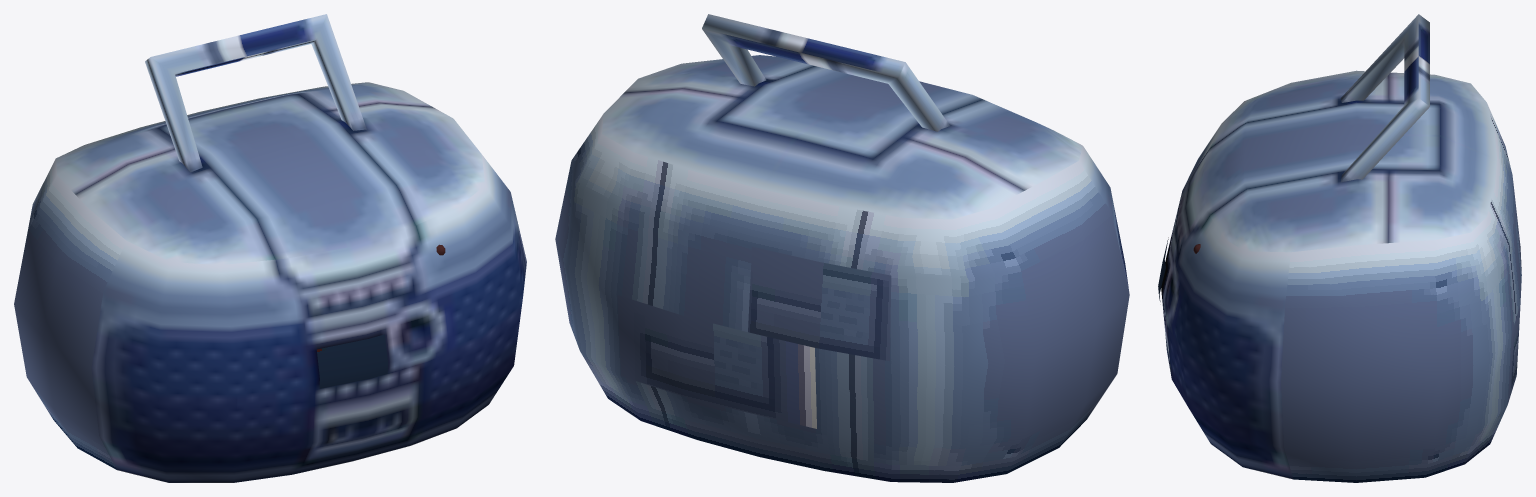
The model's file is int_msc_CD.dae.
3 renders of one model, left to right at view 1: azimuth 30°, elevation 25°; view 2: azimuth 150°, elevation 25°; view 3: azimuth 270°, elevation 25°, orthographic. The views are drawn at different scales.
Parts seen in each view (by area): view 1: int_msc_CD; view 2: int_msc_CD; view 3: int_msc_CD.
Part boxes in pixels (x1,y1,x2,y2): int_msc_CD: (14,14,526,482); int_msc_CD: (555,14,1129,482); int_msc_CD: (1158,14,1521,482).
Size of the model in its own units: 27.74 by 19.97 by 19.67.
3 materials, 3 textured.
